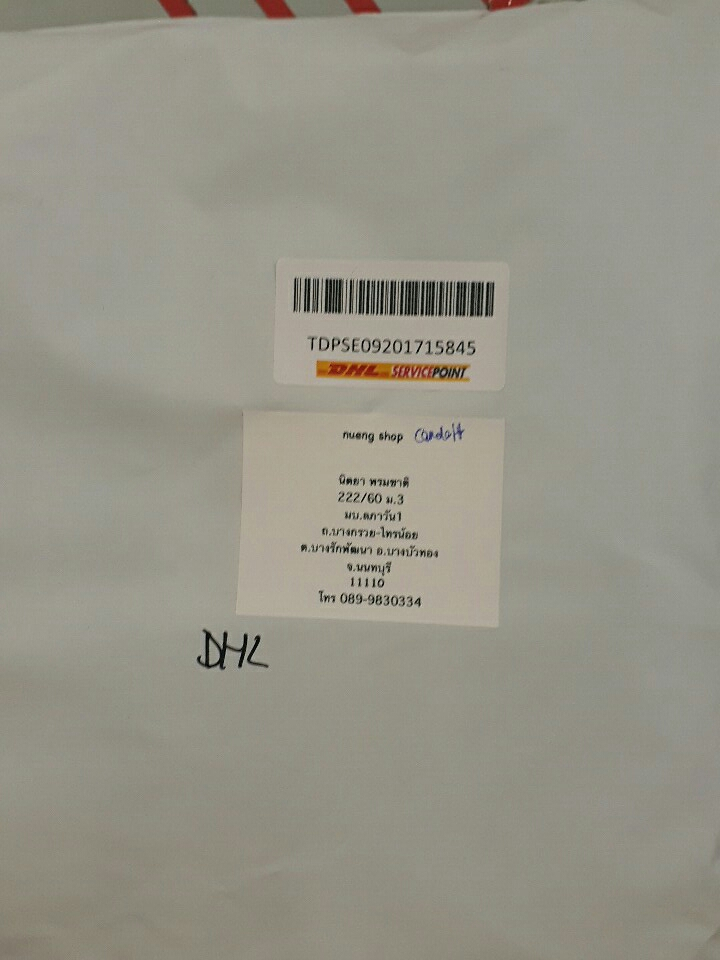ba: (261, 242, 542, 409)
txt: (295, 471, 464, 621)
